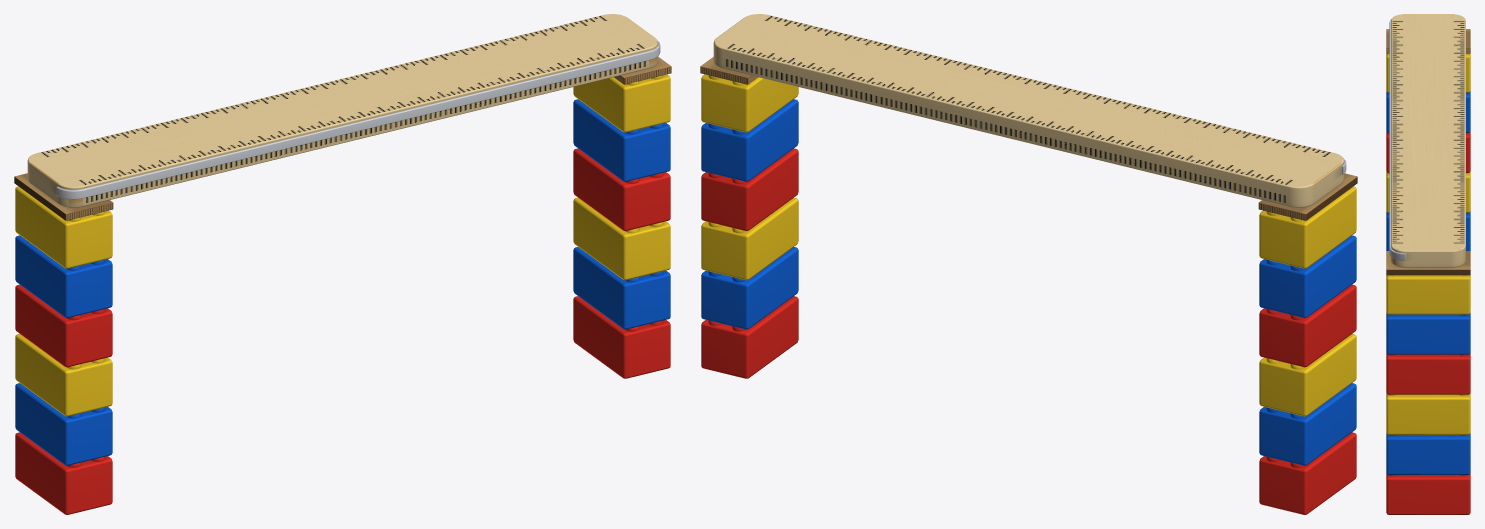
The model's file is ruler-bridge.fbx.
The picture shows the model from 3 angles, left to right: view 1: azimuth 30°, elevation 25°; view 2: azimuth 150°, elevation 25°; view 3: azimuth 270°, elevation 25°; orthographic projection. The views are drawn at different scales.
Visible parts, largest first — view 1: ruler-bridge; view 2: ruler-bridge; view 3: ruler-bridge.
Part boxes in pixels (x1=…): ruler-bridge: x1=14, y1=14, x2=671, y2=514; ruler-bridge: x1=700, y1=14, x2=1357, y2=514; ruler-bridge: x1=1386, y1=14, x2=1470, y2=514.
Size of the model in its own units: 30400 by 15500 by 4500.
1 material, 1 textured.
